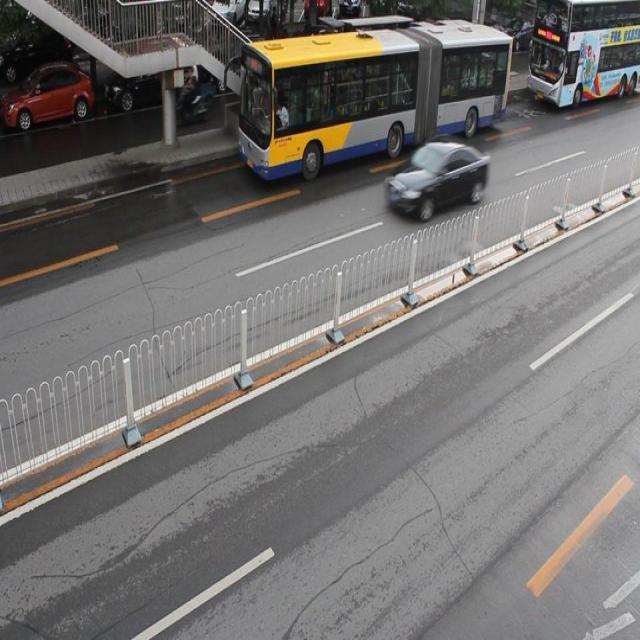car: (386, 138, 488, 218), (1, 61, 93, 130), (103, 44, 194, 105), (206, 31, 272, 95), (290, 26, 362, 84)
van: (239, 22, 510, 170), (530, 1, 640, 107)
